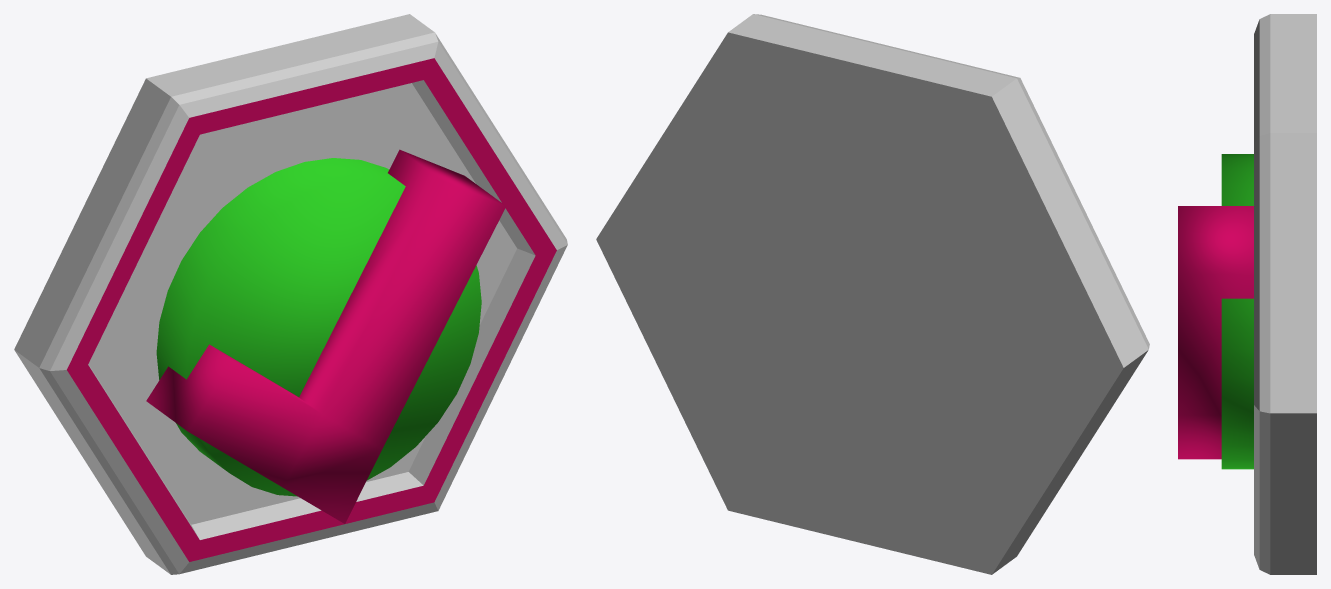
File: hexagon_checkmark.dae
3 views of the same model, side by side, from view 1: azimuth 30°, elevation 25°; view 2: azimuth 150°, elevation 25°; view 3: azimuth 270°, elevation 25° (orthographic). The views are drawn at different scales.
Parts seen in each view (by area): view 1: node; view 2: node; view 3: node.
Boxes of the visible parts, x1,y1,x2,y2 form: node: (14, 14, 567, 574); node: (596, 14, 1149, 574); node: (1178, 14, 1316, 574).
Size of the model in its own units: 2 by 0.4927 by 1.73.
